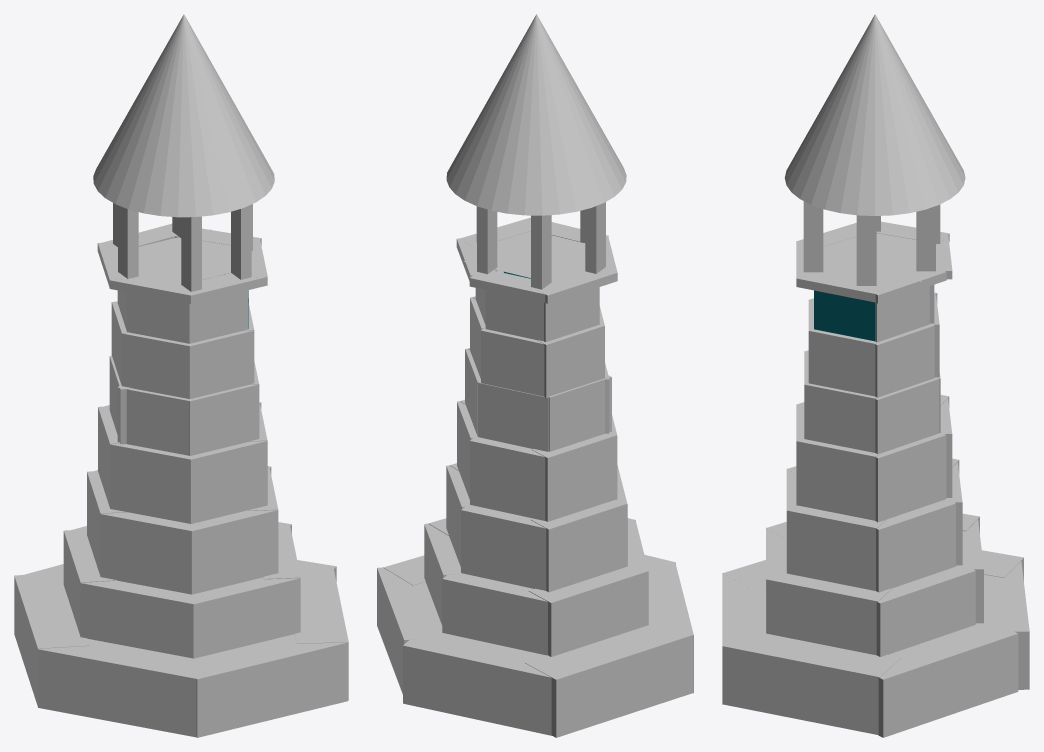
File: lighthouse.obj
The picture shows the model from 3 angles, left to right: view 1: azimuth 30°, elevation 25°; view 2: azimuth 150°, elevation 25°; view 3: azimuth 270°, elevation 25°; orthographic projection.
Parts seen in each view (by area): view 1: Cone, Cube.001, Cube, Cube.010, Cube.011, Cube.013, Cube.012, Cube.022, Cube.023, Cube.003, Cube.024, Cube.034 (+19 smaller); view 2: Cone, Cube.003, Cube.005, Cube.008, Cube.006, Cube.017, Cube.015, Cube.018, Cube.020, Cube.004, Cube.029, Cube.030 (+20 smaller); view 3: Cone, Cube.002, Cube.004, Cube.009, Cube.007, Cube.014, Cube.016, Cube.021, Cube.019, Cube.026, Cube.033, Cube.028 (+20 smaller).
Boxes of the visible parts, <box> form: Cone: <box>93,14,274,217</box>; Cube.001: <box>38,638,217,737</box>; Cube: <box>196,634,348,737</box>; Cube.010: <box>80,580,206,658</box>; Cube.011: <box>193,577,300,658</box>; Cube.013: <box>100,512,201,594</box>; Cube.012: <box>191,510,277,594</box>; Cube.022: <box>110,443,195,523</box>; Cube.023: <box>190,441,267,523</box>; Cube.003: <box>14,572,89,706</box>; Cube.024: <box>189,384,258,455</box>; Cube.034: <box>121,333,192,398</box>; Cone: <box>446,14,626,215</box>; Cube.003: <box>525,617,693,737</box>; Cube.005: <box>403,635,551,735</box>; Cube.008: <box>529,560,648,656</box>; Cube.006: <box>442,574,547,655</box>; Cube.017: <box>461,506,546,590</box>; Cube.015: <box>531,498,626,592</box>; Cube.018: <box>470,437,545,520</box>; Cube.020: <box>532,432,616,521</box>; Cube.004: <box>377,567,454,694</box>; Cube.029: <box>478,381,548,451</box>; Cube.030: <box>481,328,544,396</box>; Cone: <box>784,14,965,215</box>; Cube.002: <box>722,626,901,734</box>; Cube.004: <box>878,616,1018,737</box>; Cube.009: <box>766,565,892,655</box>; Cube.007: <box>876,564,975,656</box>; Cube.014: <box>787,502,886,590</box>; Cube.016: <box>876,498,955,592</box>; Cube.021: <box>796,435,880,520</box>; Cube.019: <box>875,432,946,522</box>; Cube.026: <box>804,381,876,452</box>; Cube.033: <box>808,326,877,396</box>; Cube.028: <box>875,377,938,453</box>.
Bounding box in the file's own units: 6.92 × 13.97 × 6.
